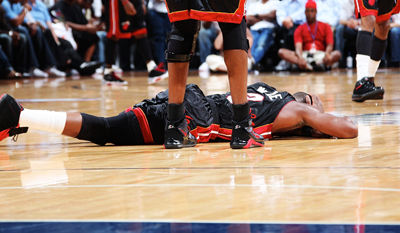10+: (1, 1, 400, 149)
down: (1, 69, 361, 148)
